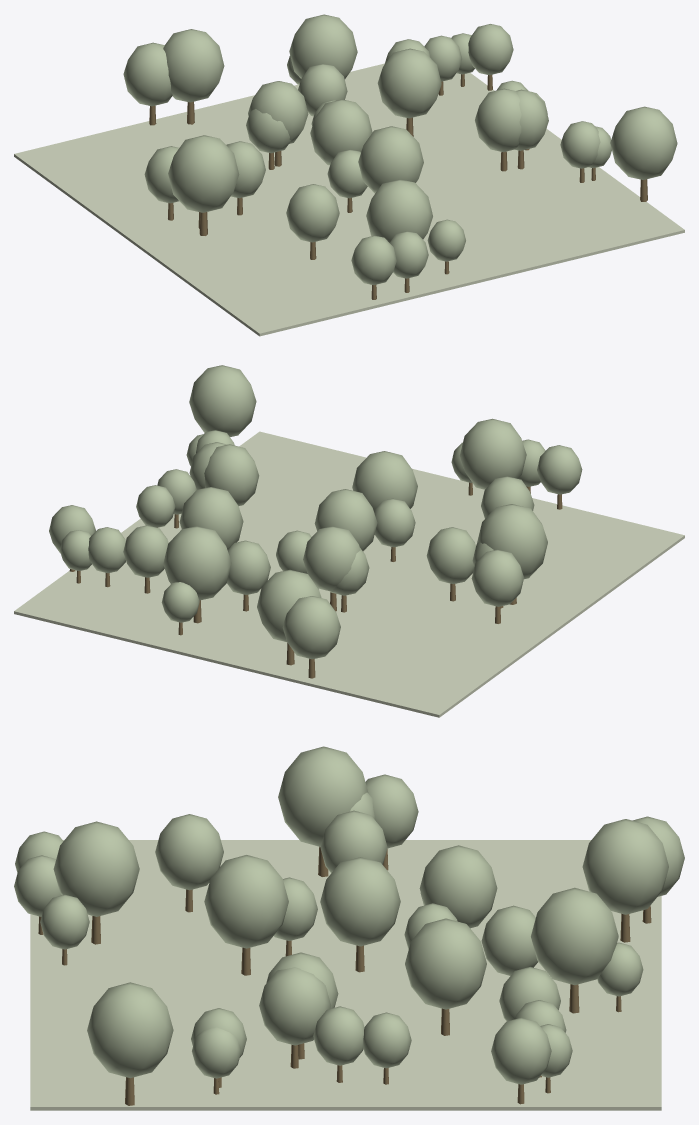
The picture shows the model from 3 angles, top to bottom: view 1: azimuth 30°, elevation 25°; view 2: azimuth 150°, elevation 25°; view 3: azimuth 270°, elevation 25°; orthographic projection. The views are drawn at different scales.
Parts seen in each view (by area): view 1: terrain, lod-near-20, lod-near-3, lod-near-27, lod-near-15, lod-near-30, lod-near-19, lod-near-6, lod-near-26, lod-near-28, lod-near-31, lod-near-24 (+14 smaller); view 2: terrain, lod-near-3, lod-near-30, lod-near-6, lod-near-20, lod-near-31, lod-near-19, lod-near-12, lod-near-15, lod-near-27, lod-near-26, lod-near-24 (+17 smaller); view 3: terrain, lod-near-30, lod-near-3, lod-near-27, lod-near-6, lod-near-19, lod-near-20, lod-near-15, lod-near-26, lod-near-12, lod-near-1, lod-near-28 (+19 smaller).
Part boxes in pixels (x1,y1,x2,y2): terrain: (14, 63, 684, 336); lod-near-20: (168, 135, 239, 212); lod-near-3: (610, 106, 677, 179); lod-near-27: (163, 29, 224, 102); lod-near-15: (377, 48, 441, 118); lod-near-30: (289, 14, 357, 79); lod-near-19: (358, 126, 423, 193); lod-near-6: (366, 179, 432, 242); lod-near-26: (310, 99, 372, 165); lod-near-28: (286, 184, 339, 242); lod-near-31: (123, 42, 172, 106); lod-near-24: (475, 88, 521, 152); terrain: (14, 431, 684, 717); lod-near-3: (189, 365, 256, 436); lod-near-30: (163, 526, 231, 600); lod-near-6: (459, 418, 526, 489); lod-near-20: (477, 504, 547, 579); lod-near-31: (282, 596, 340, 659); lod-near-19: (352, 451, 417, 510); lod-near-12: (303, 526, 360, 592); lod-near-15: (179, 487, 243, 549); lod-near-27: (257, 569, 321, 641); lod-near-26: (314, 489, 377, 551); lod-near-24: (204, 444, 259, 505); terrain: (30, 840, 661, 1110); lod-near-30: (531, 887, 618, 985); lod-near-3: (87, 982, 173, 1078); lod-near-27: (582, 819, 668, 914); lod-near-6: (53, 821, 139, 916); lod-near-19: (204, 855, 288, 948); lod-near-20: (278, 746, 368, 846); lod-near-15: (405, 918, 486, 1009); lod-near-26: (320, 857, 400, 946); lod-near-12: (419, 845, 497, 928); lod-near-1: (259, 967, 331, 1045); lod-near-28: (155, 814, 223, 890).
Bounding box in the file's own units: 34.03 × 7.32 × 34.01.
